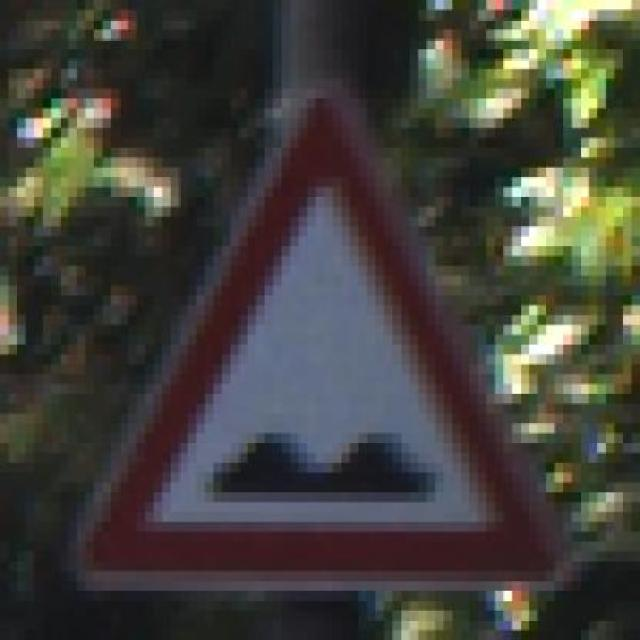Uneven Road: (77, 89, 563, 592)
